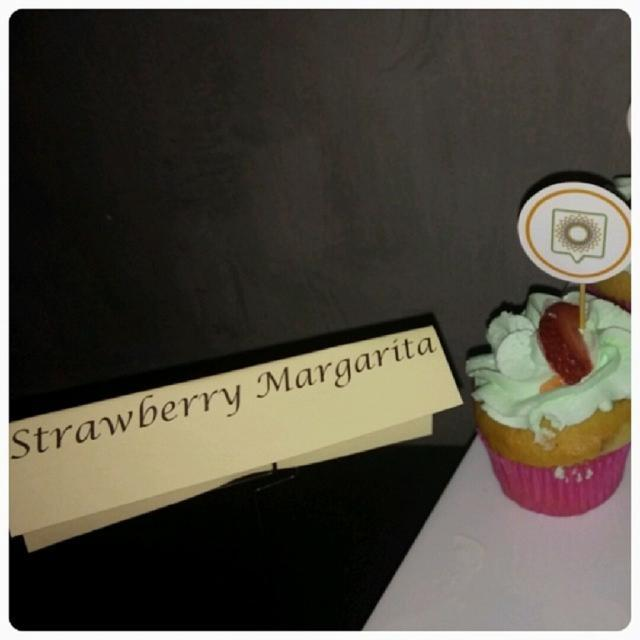Muffin: (475, 281, 640, 515)
